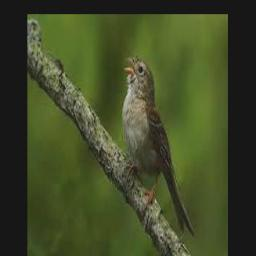Sparrow: (121, 54, 193, 236)
